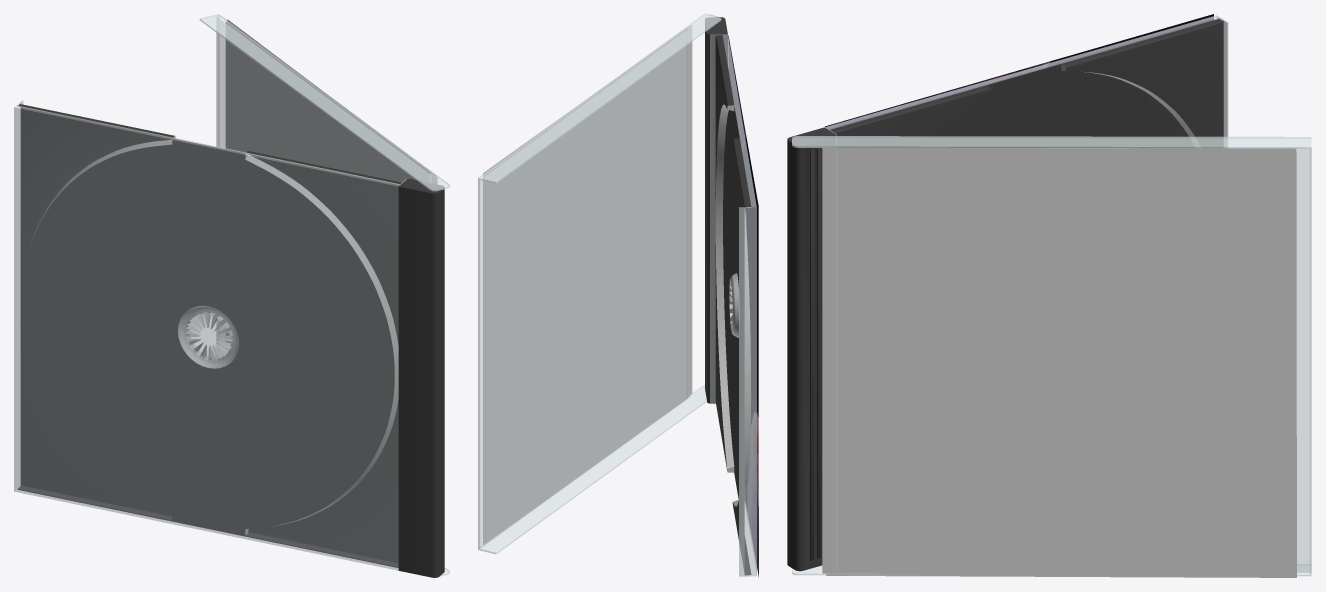
The model's file is pochette.glb.
3 renders of one model, left to right at view 1: azimuth 30°, elevation 25°; view 2: azimuth 150°, elevation 25°; view 3: azimuth 270°, elevation 25°, orthographic. The views are drawn at different scales.
Parts seen in each view (by area): view 1: Case Back_2, Case Front_0; view 2: Case Front_0, Case Back_2, Plane.001, Plane; view 3: Plane, Case Back_2, Case Front_0, Plane.001.
Boxes of the visible parts, bbox=[...] form: Case Back_2: bbox=[14, 100, 444, 577]; Case Front_0: bbox=[199, 14, 449, 576]; Case Front_0: bbox=[478, 14, 721, 554]; Case Back_2: bbox=[705, 17, 756, 576]; Plane.001: bbox=[728, 35, 758, 577]; Plane: bbox=[483, 26, 690, 544]; Plane: bbox=[826, 147, 1296, 577]; Case Back_2: bbox=[787, 15, 1228, 571]; Case Front_0: bbox=[792, 136, 1311, 576]; Plane.001: bbox=[825, 14, 1213, 129].
Size of the model in its own units: 1.35 by 2 by 2.21.
Materials: 9 (1 with a texture image).
